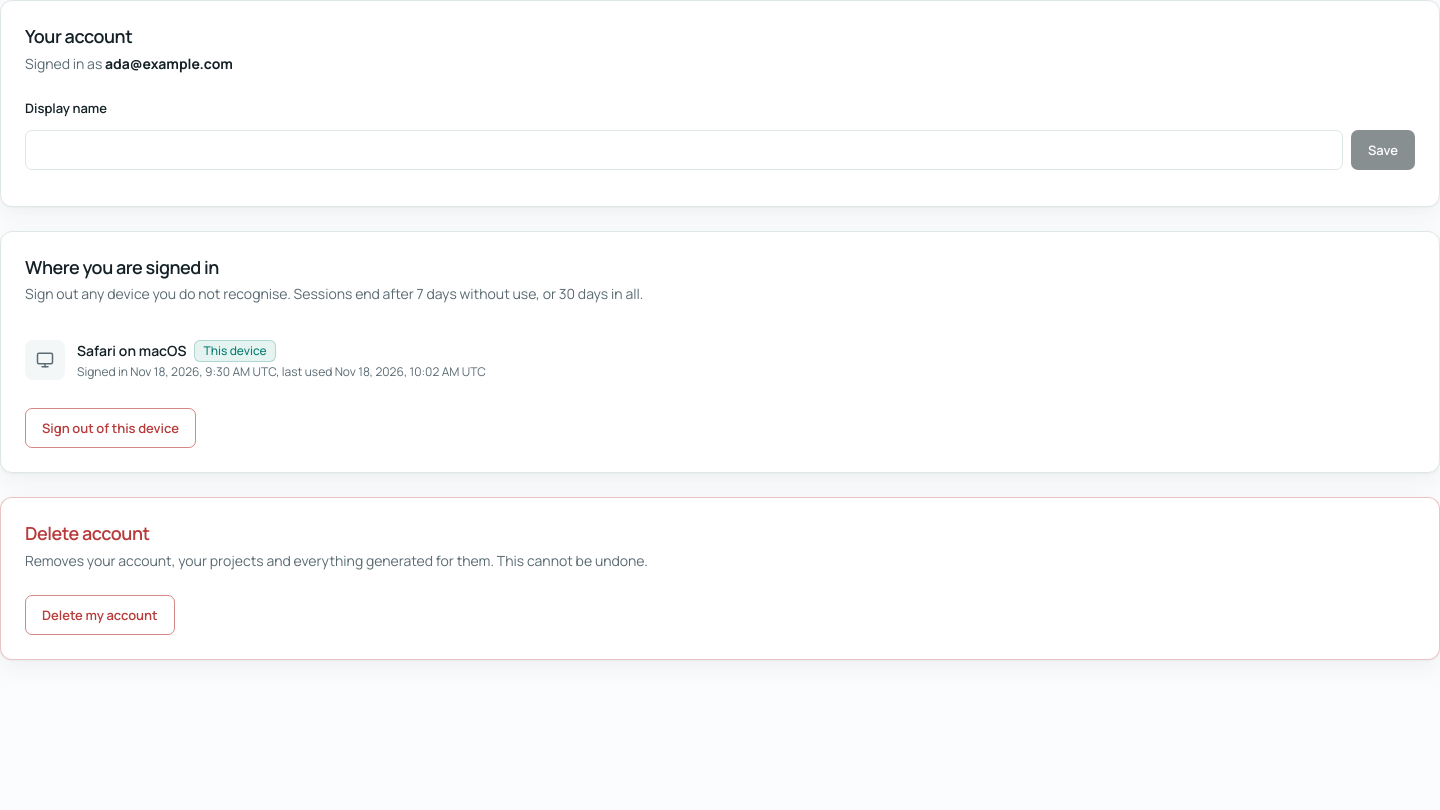
AccountView › stays and explains when sign-out fails for another reason
Click the button "Sign out of this device". click: (110, 428)
box: top-left (25, 408), bottom-right (196, 448)
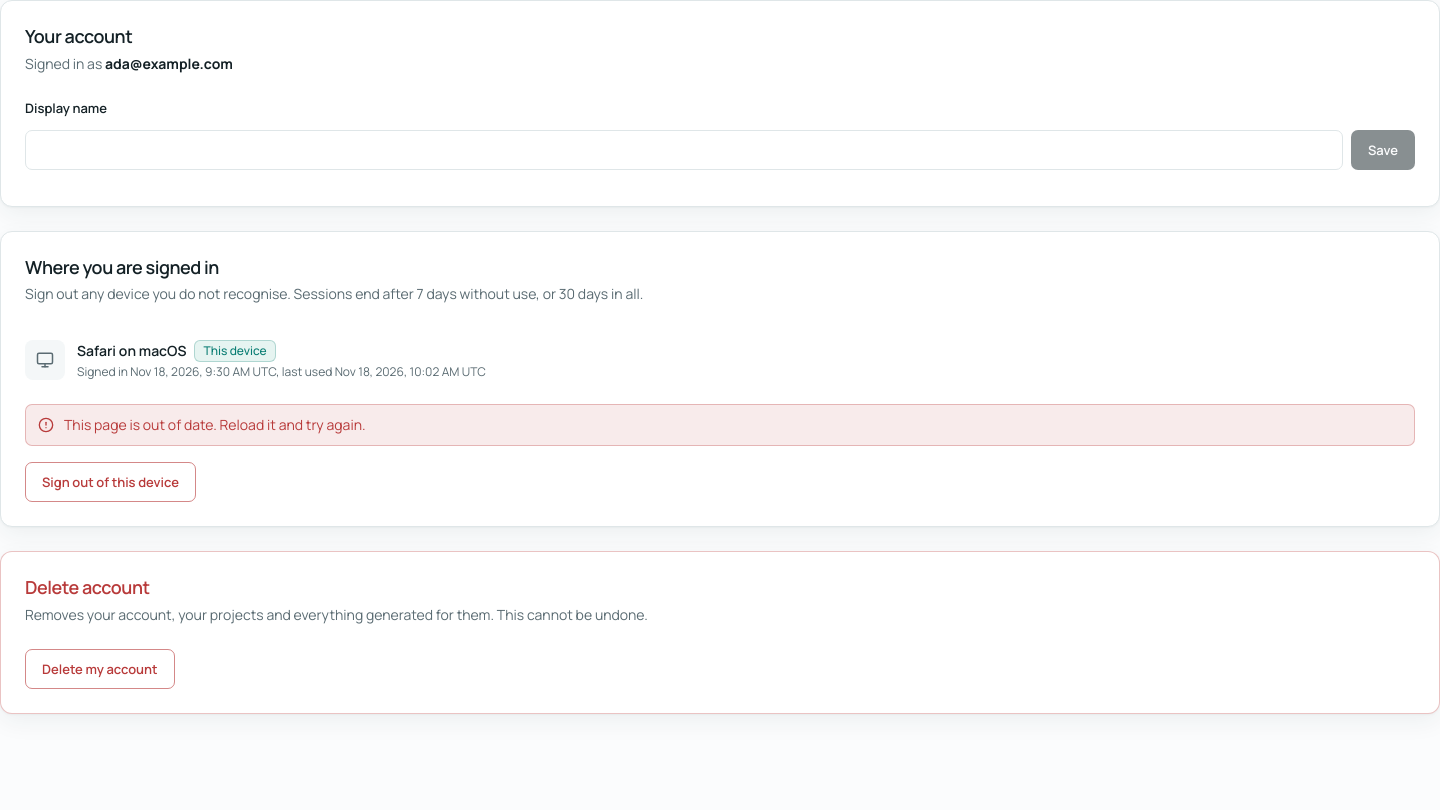
Result: the message shows "out of date" at top-left (64, 415), bottom-right (366, 434)
